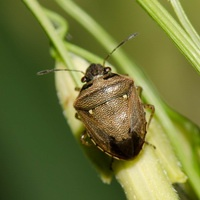insect: (37, 33, 154, 159)
